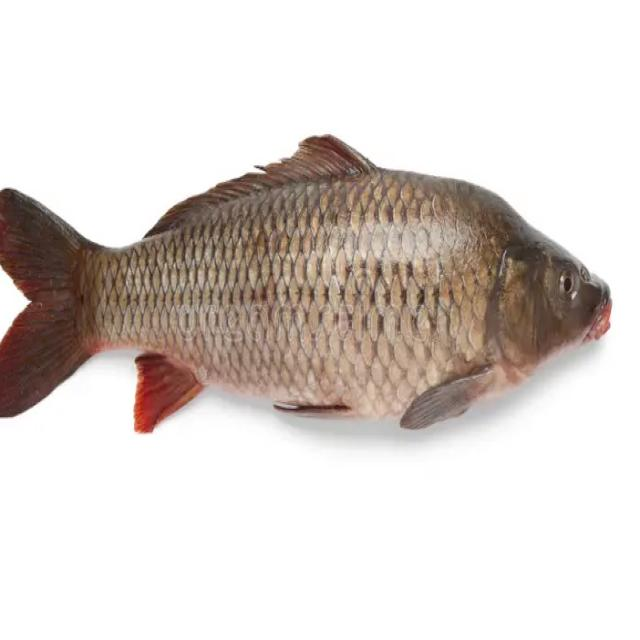Common carp: (0, 134, 611, 432)
